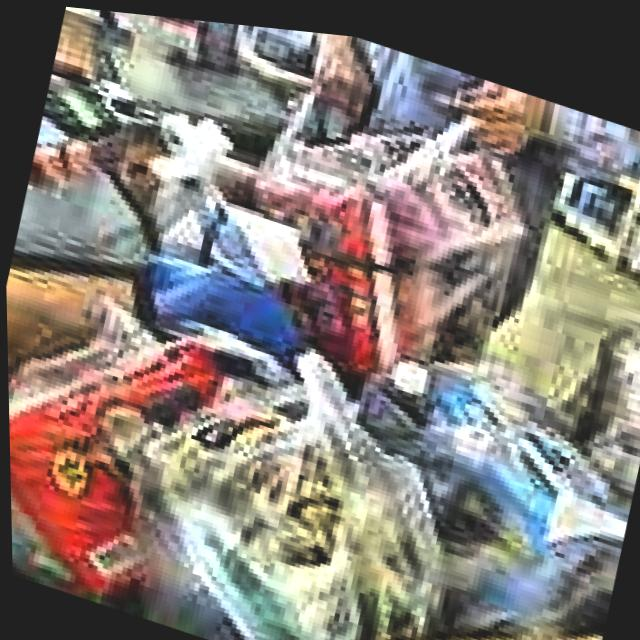Plastic: (89, 282, 514, 640), (231, 72, 576, 441), (314, 311, 640, 640), (4, 241, 265, 627)
